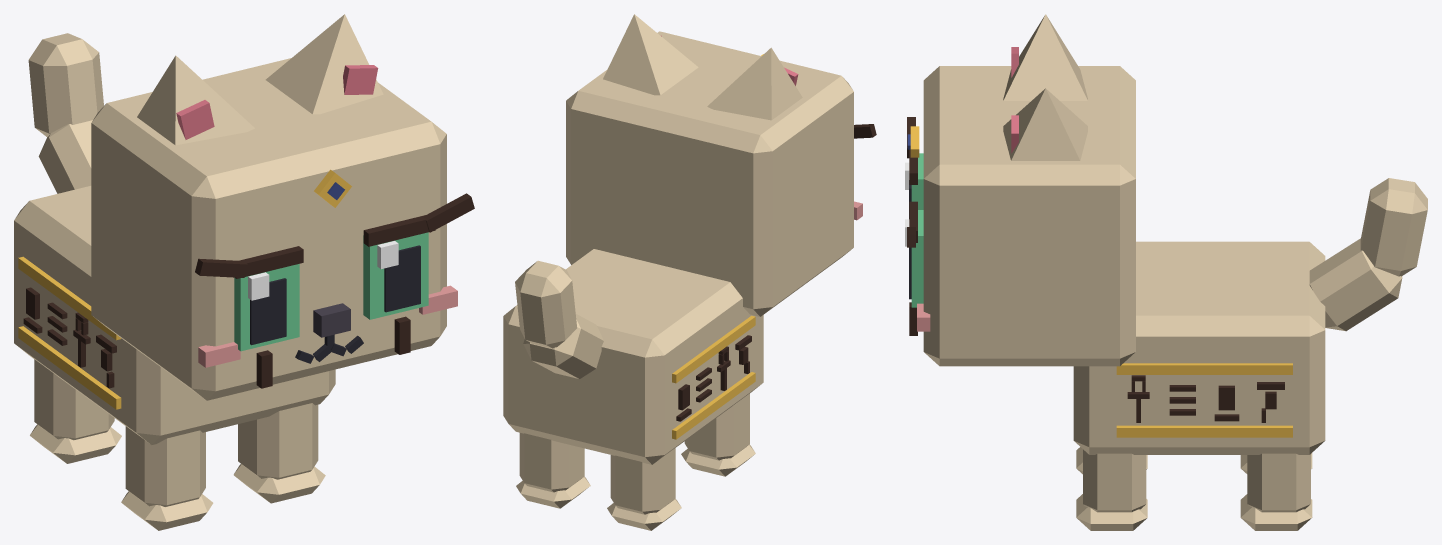
File: CatCafe_Cat_Glyph.glb
The picture shows the model from 3 angles, left to right: view 1: azimuth 30°, elevation 25°; view 2: azimuth 150°, elevation 25°; view 3: azimuth 270°, elevation 25°; orthographic projection. The views are drawn at different scales.
Parts seen in each view (by area): view 1: CatCafe_Cat_Glyph_Head, CatCafe_Cat_Glyph_Body, CatCafe_Cat_Glyph_Tail, CatCafe_Cat_Glyph_LegF2, CatCafe_Cat_Glyph_LegF1, CatCafe_Cat_Glyph_EarL, CatCafe_Cat_Glyph_Prop, CatCafe_Cat_Glyph_LegB2, CatCafe_Cat_Glyph_EarR, CatCafe_Cat_Glyph_Eye1, CatCafe_Cat_Glyph_Eye2; view 2: CatCafe_Cat_Glyph_Head, CatCafe_Cat_Glyph_Body, CatCafe_Cat_Glyph_Tail, CatCafe_Cat_Glyph_LegB2, CatCafe_Cat_Glyph_EarL, CatCafe_Cat_Glyph_LegB1, CatCafe_Cat_Glyph_EarR, CatCafe_Cat_Glyph_LegF2; view 3: CatCafe_Cat_Glyph_Head, CatCafe_Cat_Glyph_Body, CatCafe_Cat_Glyph_Tail, CatCafe_Cat_Glyph_LegF1, CatCafe_Cat_Glyph_LegB1, CatCafe_Cat_Glyph_EarL, CatCafe_Cat_Glyph_EarR, CatCafe_Cat_Glyph_Prop, CatCafe_Cat_Glyph_Eye1, CatCafe_Cat_Glyph_Eye2.
Part boxes in pixels (x1,y1,x2,y2): CatCafe_Cat_Glyph_Head: (91, 58, 457, 400); CatCafe_Cat_Glyph_Body: (14, 186, 335, 444); CatCafe_Cat_Glyph_Tail: (28, 33, 103, 193); CatCafe_Cat_Glyph_LegF2: (121, 426, 213, 530); CatCafe_Cat_Glyph_LegF1: (233, 403, 325, 503); CatCafe_Cat_Glyph_EarL: (265, 14, 383, 114); CatCafe_Cat_Glyph_Prop: (195, 169, 474, 388); CatCafe_Cat_Glyph_LegB2: (30, 359, 121, 463); CatCafe_Cat_Glyph_EarR: (137, 55, 254, 145); CatCafe_Cat_Glyph_Eye1: (363, 232, 428, 319); CatCafe_Cat_Glyph_Eye2: (234, 264, 299, 351); CatCafe_Cat_Glyph_Head: (566, 31, 862, 316); CatCafe_Cat_Glyph_Body: (503, 249, 763, 464); CatCafe_Cat_Glyph_Tail: (515, 260, 603, 378); CatCafe_Cat_Glyph_LegB2: (607, 448, 681, 530); CatCafe_Cat_Glyph_EarL: (603, 14, 698, 95); CatCafe_Cat_Glyph_LegB1: (516, 433, 590, 508); CatCafe_Cat_Glyph_EarR: (707, 47, 802, 120); CatCafe_Cat_Glyph_LegF2: (681, 393, 755, 476); CatCafe_Cat_Glyph_Head: (917, 66, 1135, 366); CatCafe_Cat_Glyph_Body: (1073, 241, 1325, 454); CatCafe_Cat_Glyph_Tail: (1309, 178, 1427, 331); CatCafe_Cat_Glyph_LegF1: (1076, 449, 1147, 530); CatCafe_Cat_Glyph_LegB1: (1240, 453, 1312, 530); CatCafe_Cat_Glyph_EarL: (1003, 88, 1087, 160); CatCafe_Cat_Glyph_EarR: (1003, 14, 1087, 100); CatCafe_Cat_Glyph_Prop: (907, 117, 919, 335); CatCafe_Cat_Glyph_Eye1: (905, 210, 923, 307); CatCafe_Cat_Glyph_Eye2: (905, 153, 923, 218).
Bounding box in the file's own units: 1.08 × 1.86 × 1.97.
1 material, 1 textured.
